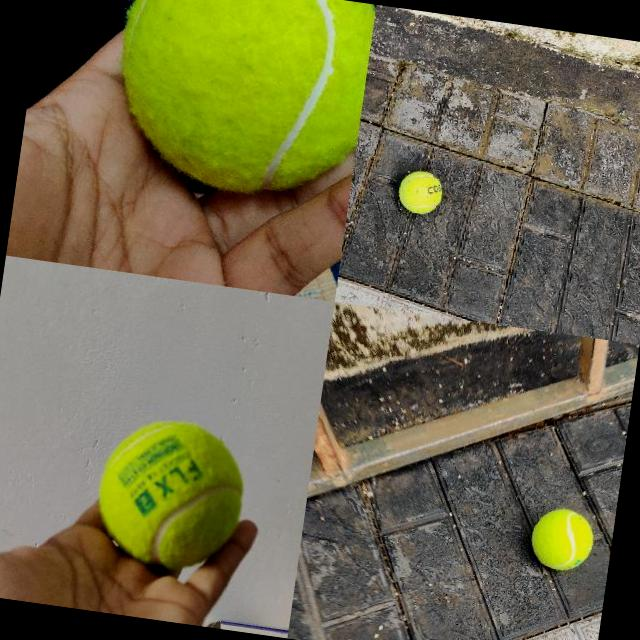tennis-ball: (103, 0, 375, 208), (89, 412, 252, 576), (527, 505, 597, 575), (395, 166, 445, 216)
